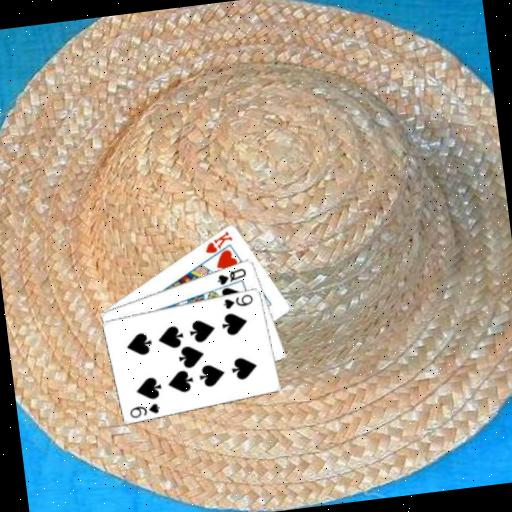9S: (219, 290, 256, 311), (126, 400, 163, 421)
KH: (200, 227, 235, 256)
QS: (213, 265, 249, 287)
